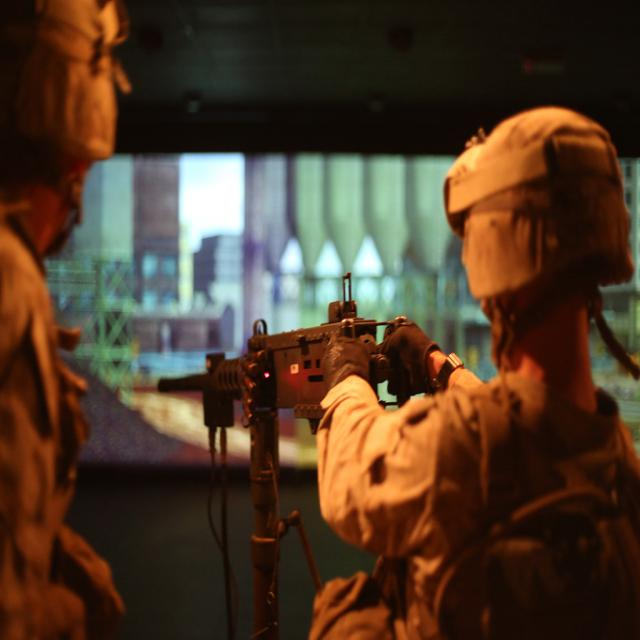Weapon: (172, 295, 446, 514)
